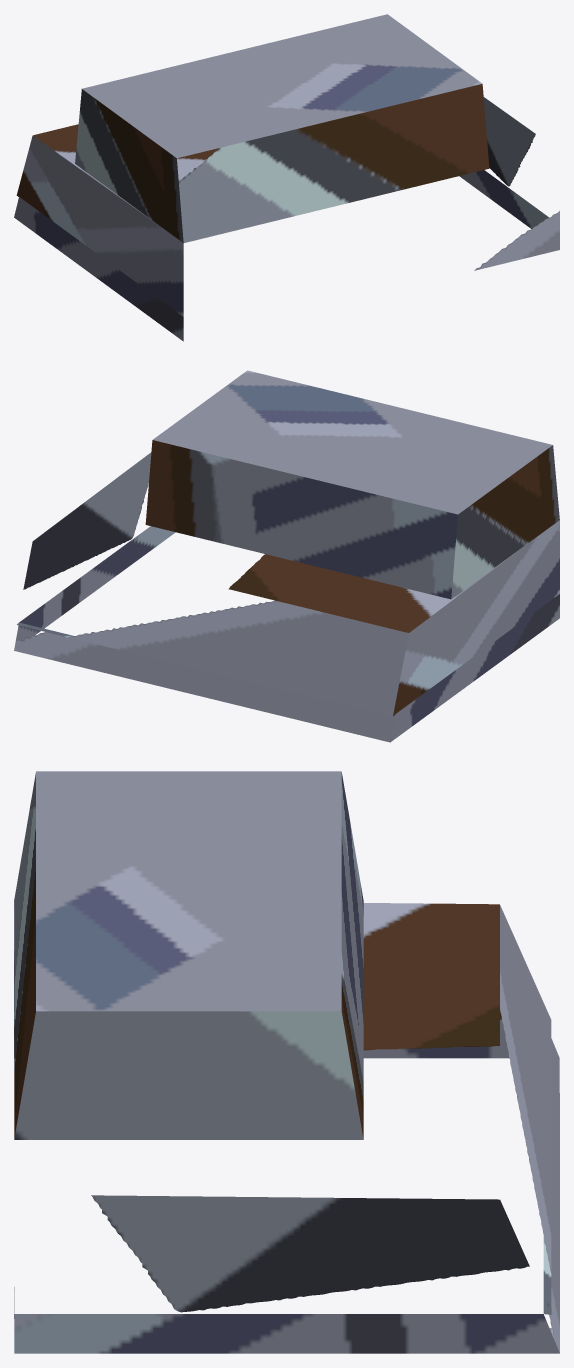
File: ss8_carport_fan.obj
3 views of the same model, one above another, from view 1: azimuth 30°, elevation 25°; view 2: azimuth 150°, elevation 25°; view 3: azimuth 270°, elevation 25° (orthographic). The views are drawn at different scales.
Visible parts, largest first — view 1: cube_selection_selection_selection_selection_selection_selection; view 2: cube_selection_selection_selection_selection_selection_selection; view 3: cube_selection_selection_selection_selection_selection_selection.
Part boxes in pixels (bbox=[...]): cube_selection_selection_selection_selection_selection_selection: bbox=[14, 14, 559, 341]; cube_selection_selection_selection_selection_selection_selection: bbox=[14, 370, 559, 742]; cube_selection_selection_selection_selection_selection_selection: bbox=[14, 771, 559, 1353].
Size of the model in its own units: 2 by 0.9062 by 1.56.
